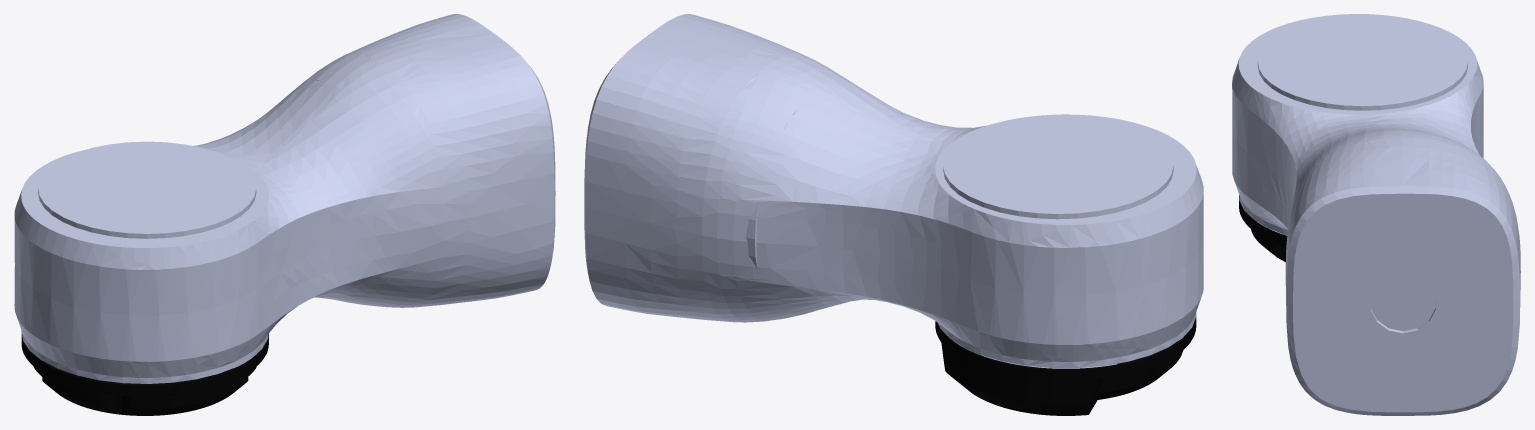
File: left_elbow_link.dae
The picture shows the model from 3 angles, left to right: view 1: azimuth 30°, elevation 25°; view 2: azimuth 150°, elevation 25°; view 3: azimuth 270°, elevation 25°; orthographic projection. The views are drawn at different scales.
Parts seen in each view (by area): view 1: left_elbow_link; view 2: left_elbow_link; view 3: left_elbow_link.
Boxes of the visible parts, x1=… form: left_elbow_link: x1=14, y1=14, x2=555, y2=415; left_elbow_link: x1=584, y1=14, x2=1203, y2=415; left_elbow_link: x1=1232, y1=14, x2=1520, y2=415.
Bounding box in the file's own units: 0.1683 × 0.0804 × 0.0893.
